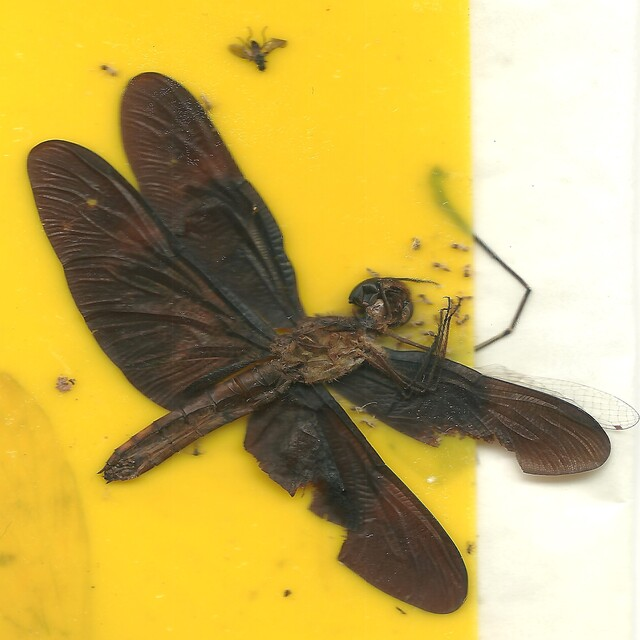Brachycera: (227, 25, 288, 72)
Odonata: (28, 72, 612, 615)
